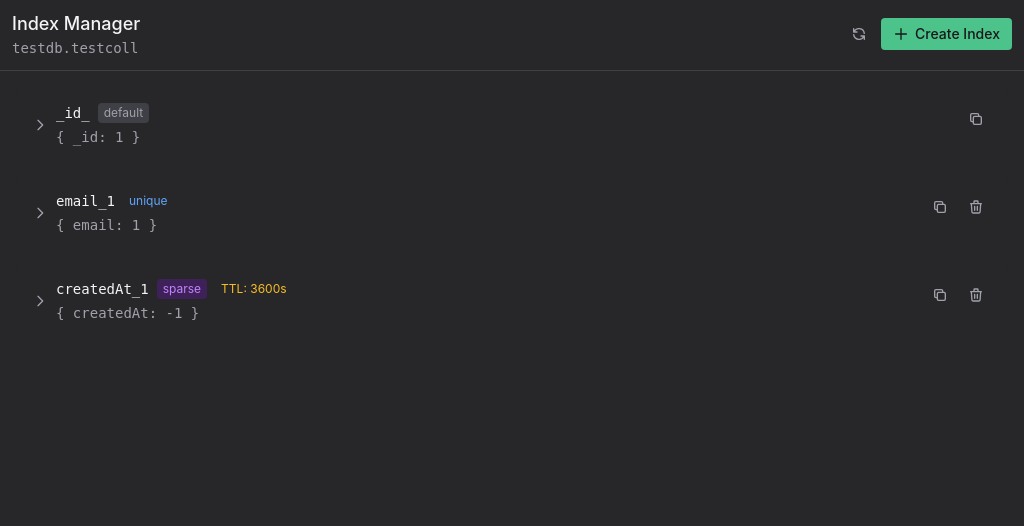
IndexView › expand/collapse › expands index details when clicked
The width and height of the screenshot is (1024, 526).
Expected: the text "email_1" is shown, top-left (56, 191), bottom-right (115, 211)
# Click to expand
Click the text "email_1" at (86, 201), box top-left (32, 191), bottom-right (992, 233)
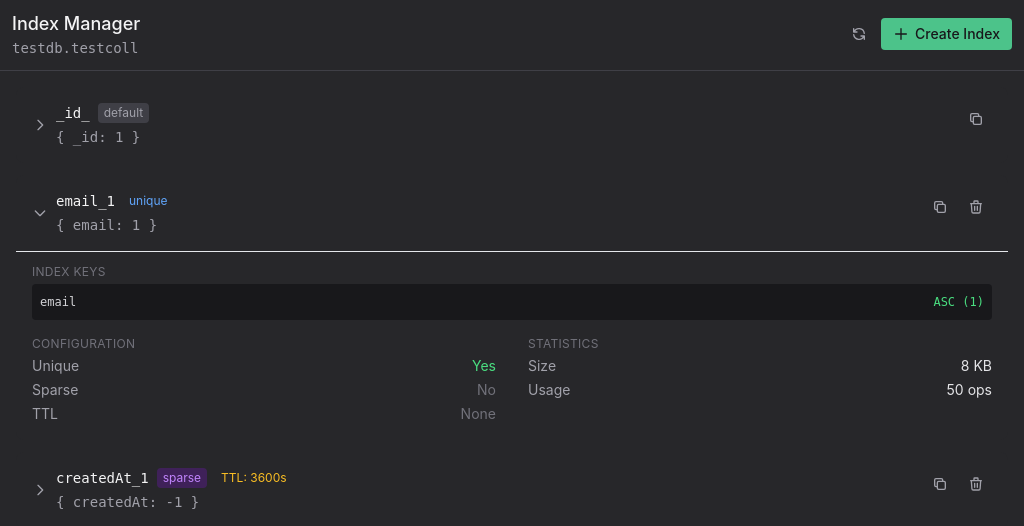
Result: the text "Index Keys" is shown at top-left (32, 264), bottom-right (106, 279)
Result: the text "Configuration" is shown at top-left (32, 336), bottom-right (135, 351)
Result: the text "Statistics" is shown at top-left (528, 336), bottom-right (599, 351)
